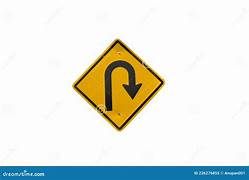back: (71, 38, 165, 131)
